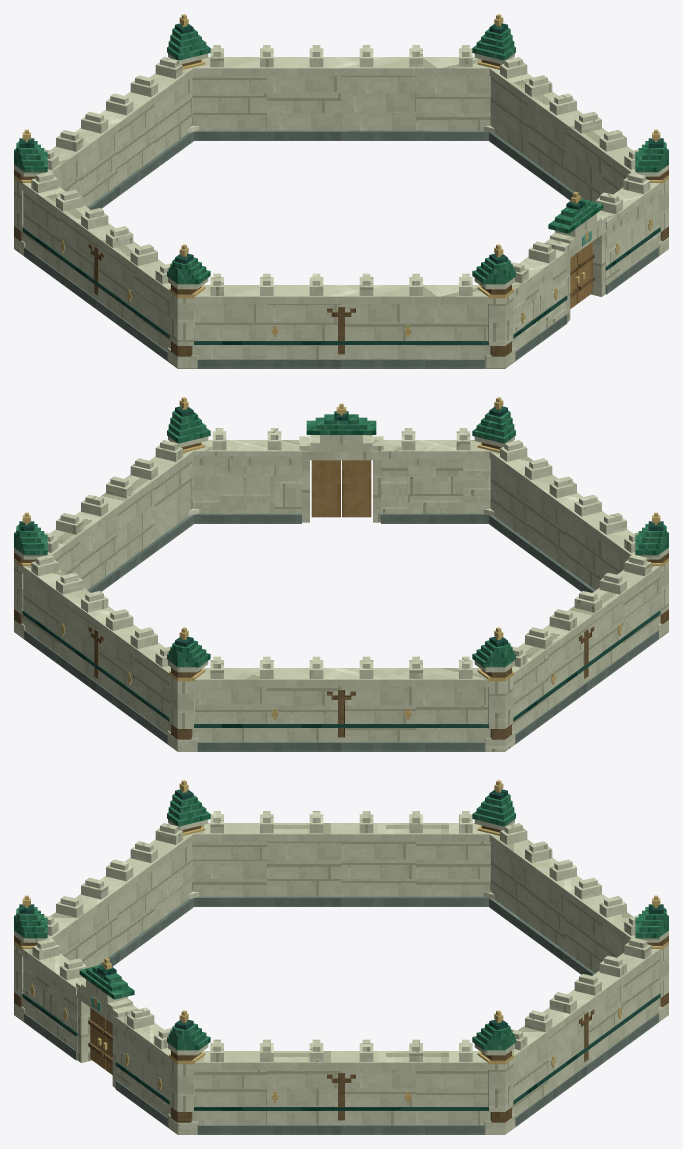
Rendered from elf_walls_level_3_hex_v1.glb.
3 views of the same model, one above another, from view 1: azimuth 30°, elevation 25°; view 2: azimuth 150°, elevation 25°; view 3: azimuth 270°, elevation 25° (orthographic).
Visible parts, largest first — view 1: Elf_Walls_Level_3_Hex_V1_Architecture; view 2: Elf_Walls_Level_3_Hex_V1_Architecture; view 3: Elf_Walls_Level_3_Hex_V1_Architecture.
Part boxes in pixels (x1=…): Elf_Walls_Level_3_Hex_V1_Architecture: x1=14, y1=14, x2=668, y2=368; Elf_Walls_Level_3_Hex_V1_Architecture: x1=14, y1=397, x2=668, y2=751; Elf_Walls_Level_3_Hex_V1_Architecture: x1=14, y1=780, x2=668, y2=1134.
Size of the model in its own units: 1.71 by 0.394 by 1.97.
Materials: 1 (1 with a texture image).
